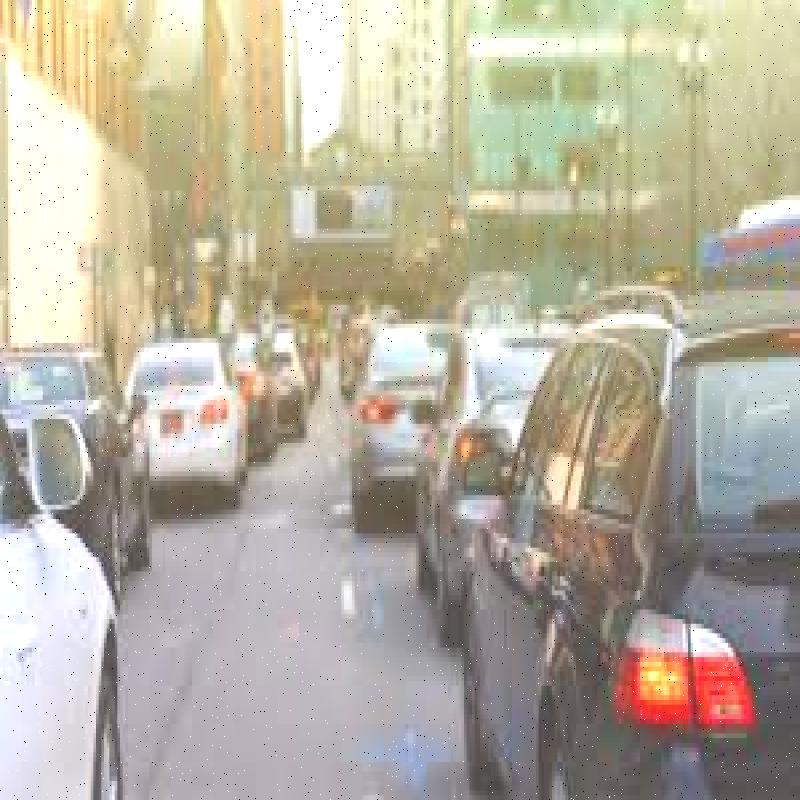car: (473, 300, 800, 800), (0, 400, 154, 786), (417, 318, 572, 598), (125, 297, 249, 508), (351, 320, 436, 502), (228, 320, 282, 450)
